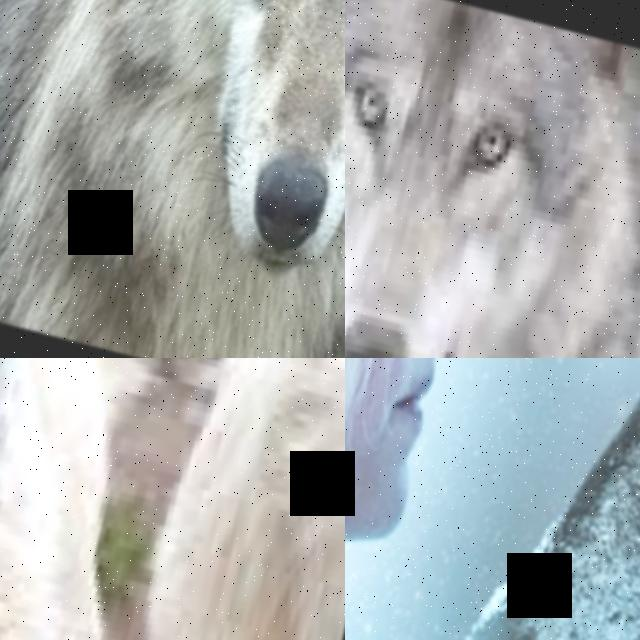wolf: (0, 0, 345, 358), (345, 0, 640, 358), (48, 358, 345, 640), (0, 358, 345, 597), (0, 358, 259, 640), (396, 358, 640, 640)
